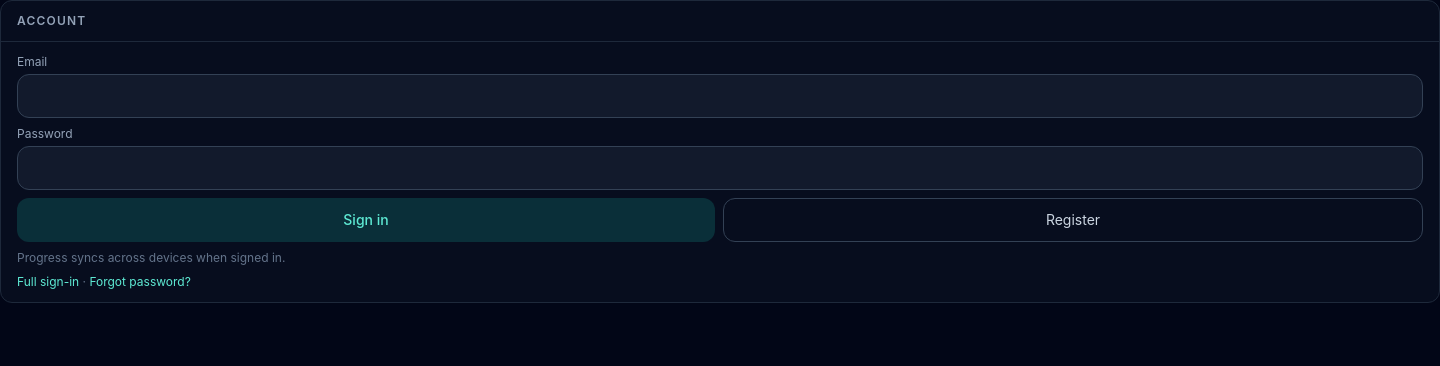
it: AccountPanel › shows a friendly error on invalid credentials
Check: the button with test id "anatomy-account-login" is shown, box [17,198,715,242]
Type "a@b.c" into the field with test id "anatomy-account-email".
click(720, 96); type("a@b.c")  # box [17,74,1423,118]
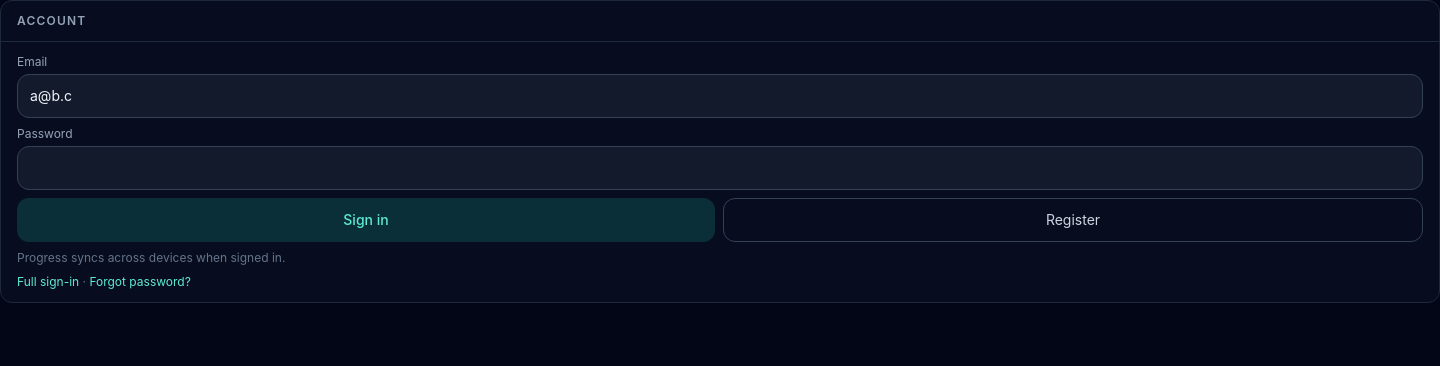
Type "wrong-pass" into the password field with test id "anatomy-account-password".
click(720, 168); type("wrong-pass")  # box [17,146,1423,190]
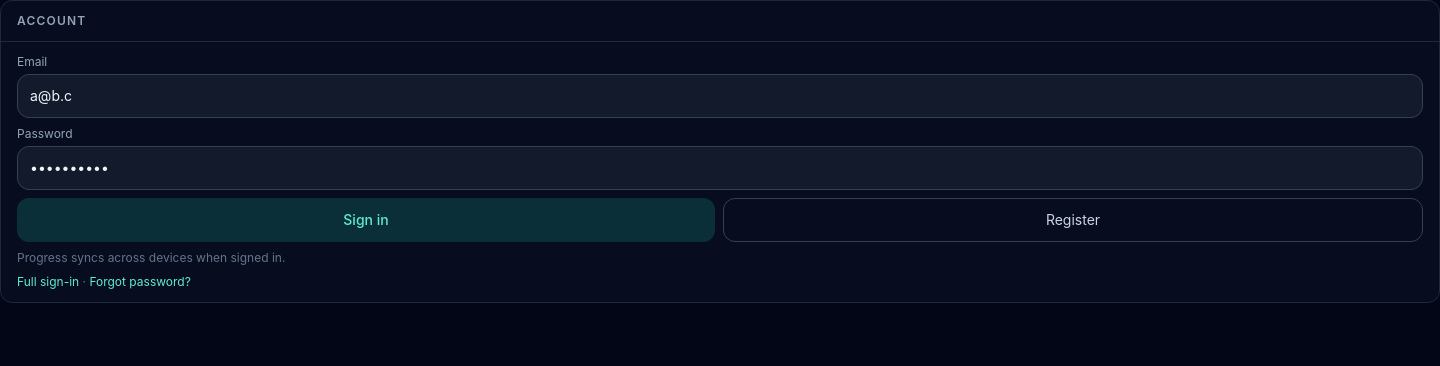
Click the button with test id "anatomy-account-login".
click(366, 220)  # box [17,198,715,242]
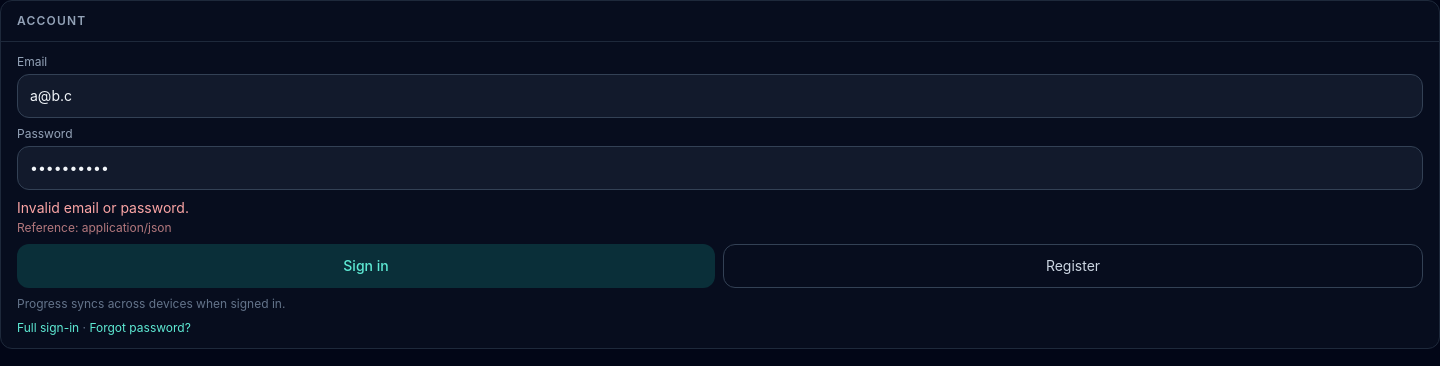
Check: the message "Invalid email or password. Reference: application/json" is shown, box [17,199,189,235]
Check: the message with test id "anatomy-account-error" shows "Invalid email or password.", box [17,199,189,216]
